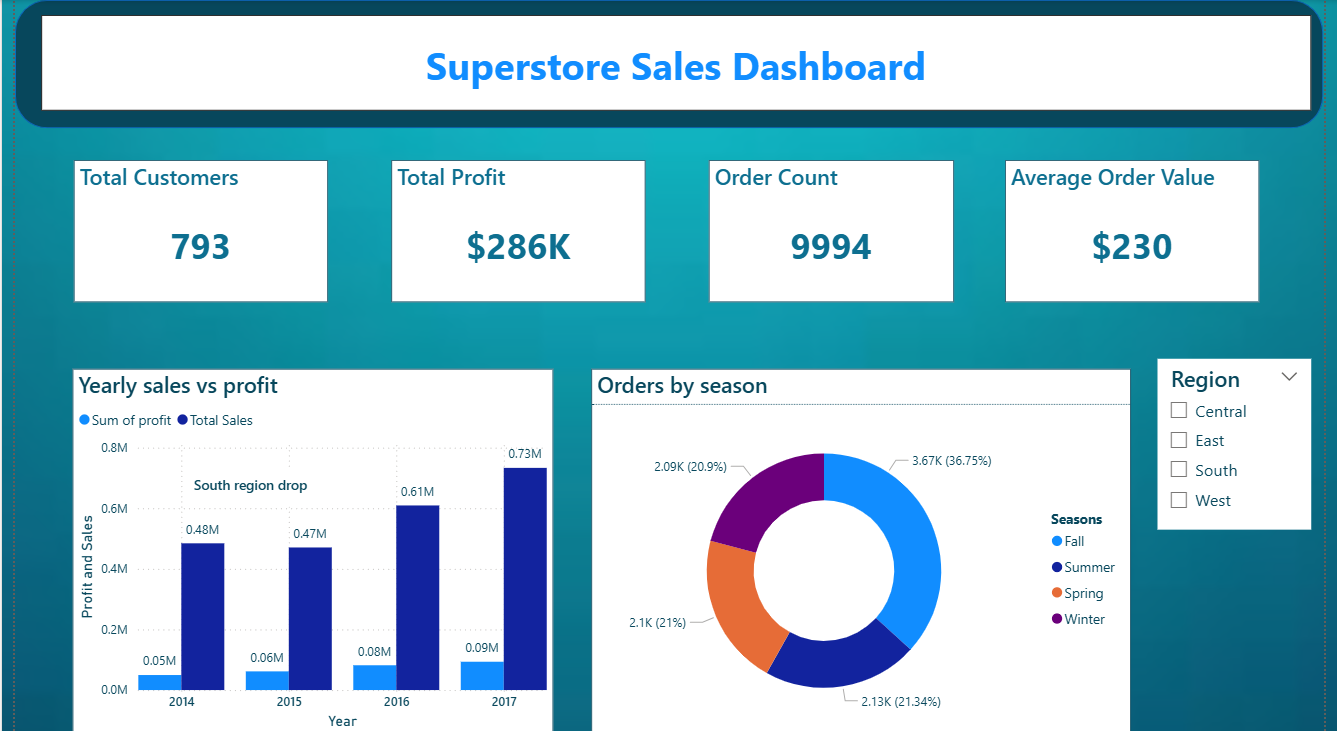

What the dashboard file says about the page in this screenshot:
{"tool":"powerbi","page":{"name":"Page 1","canvas":[1280,720],"ordinal":0},"visuals":[{"type":"card","title":"Total Customers","fields":{"Values":["cleaned_superstore.Total Customers"]},"box":[57,156.6,249.2,138.8],"z":0},{"type":"card","title":"Total Profit","fields":{"Values":["cleaned_superstore.Total Profit"]},"box":[368.4,156.6,249.2,138.8],"z":1000},{"type":"card","title":"Order Count","fields":{"Values":["cleaned_superstore.Total Orders"]},"box":[678.1,156.6,240.3,138.8],"z":2000},{"type":"card","title":"Average Order Value","fields":{"Values":["cleaned_superstore.Average Sales"]},"box":[968.2,156.6,249.2,138.8],"z":3000},{"type":"shape","box":[0,0,1279.7,125.5],"z":4000},{"type":"textbox","box":[26,14.4,1242.2,93.8],"z":5000},{"type":"clusteredColumnChart","title":"Yearly sales vs profit","fields":{"Category":["cleaned_superstore.order_year"],"Y":["Sum(cleaned_superstore.profit)","cleaned_superstore.Total Sales"]},"box":[56.3,360.7,470.3,359.2],"z":6000},{"type":"donutChart","title":"Orders by season","fields":{"Y":["CountNonNull(cleaned_superstore.order_id)"],"Category":["cleaned_superstore.Season.1"]},"box":[564.1,360.7,528.1,359.2],"z":7000},{"type":"slicer","fields":{"Values":["cleaned_superstore.region"]},"box":[1118.1,350.6,150,167.4],"z":8000},{"type":"textbox","box":[170.2,460.2,127,36.1],"z":9000}]}

Visuals, with their boxes in screenshot pixels (x1, y1, x2, y2), scaled from the page's 1280x720 canvas onto the 1337x731 screenshot:
"Total Customers" card: pyautogui.locateOnScreen(60, 159, 320, 300)
"Total Profit" card: pyautogui.locateOnScreen(385, 159, 645, 300)
"Order Count" card: pyautogui.locateOnScreen(708, 159, 959, 300)
"Average Order Value" card: pyautogui.locateOnScreen(1011, 159, 1272, 300)
shape: pyautogui.locateOnScreen(0, 0, 1336, 127)
textbox: pyautogui.locateOnScreen(27, 15, 1325, 110)
"Yearly sales vs profit" clusteredColumnChart: pyautogui.locateOnScreen(59, 366, 550, 730)
"Orders by season" donutChart: pyautogui.locateOnScreen(589, 366, 1141, 730)
slicer - cleaned_superstore.region: pyautogui.locateOnScreen(1168, 356, 1325, 526)
textbox: pyautogui.locateOnScreen(178, 467, 310, 504)
